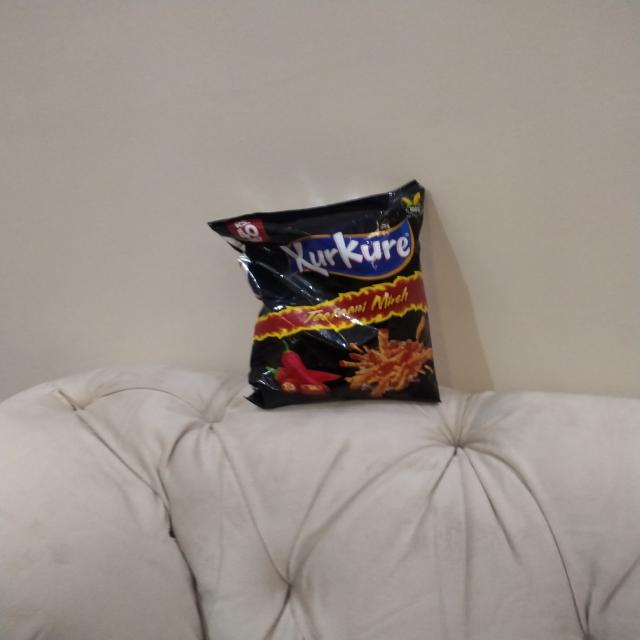Plastic: (211, 176, 442, 410)
